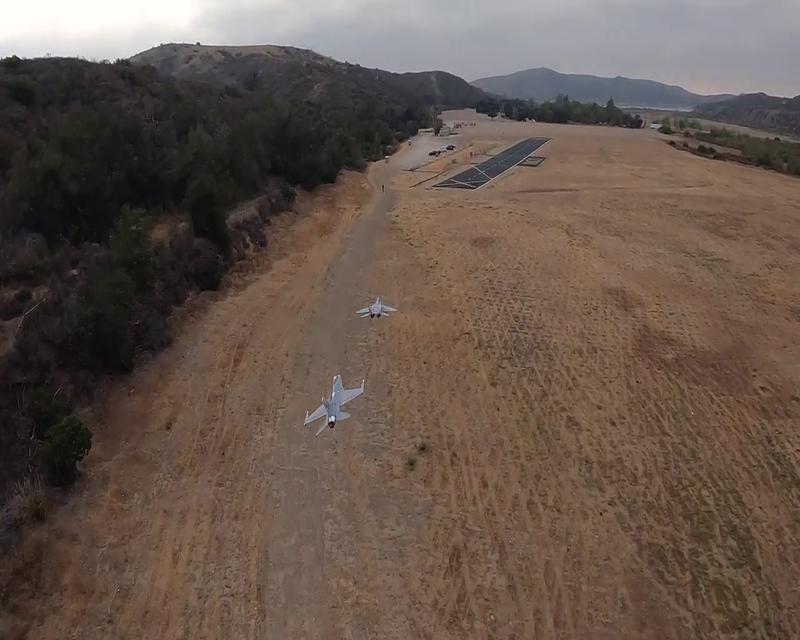UAV: (303, 374, 364, 436), (356, 297, 396, 319)
